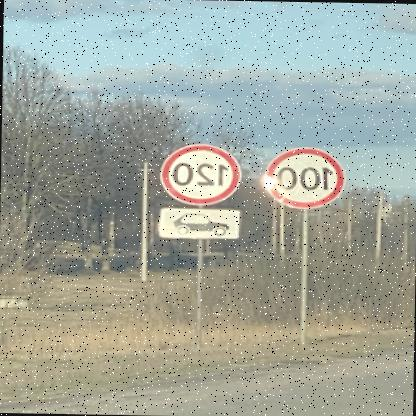speedlimit: (264, 146, 349, 208), (162, 143, 243, 203)
